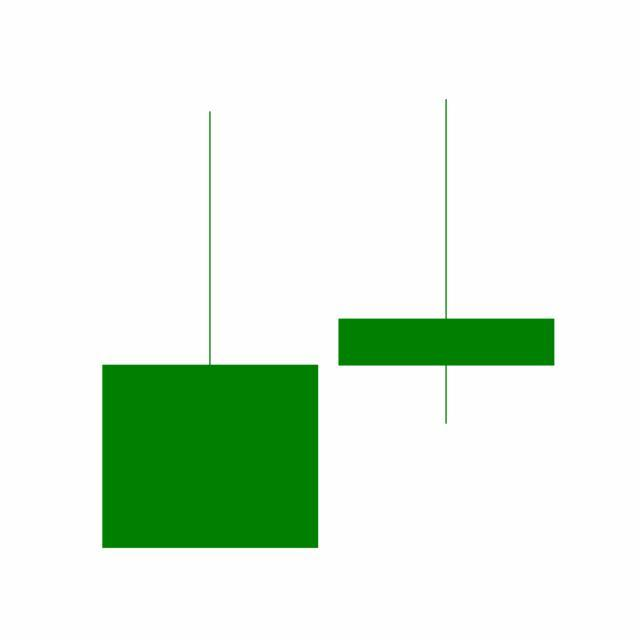Spinning Top: (328, 96, 566, 428)
